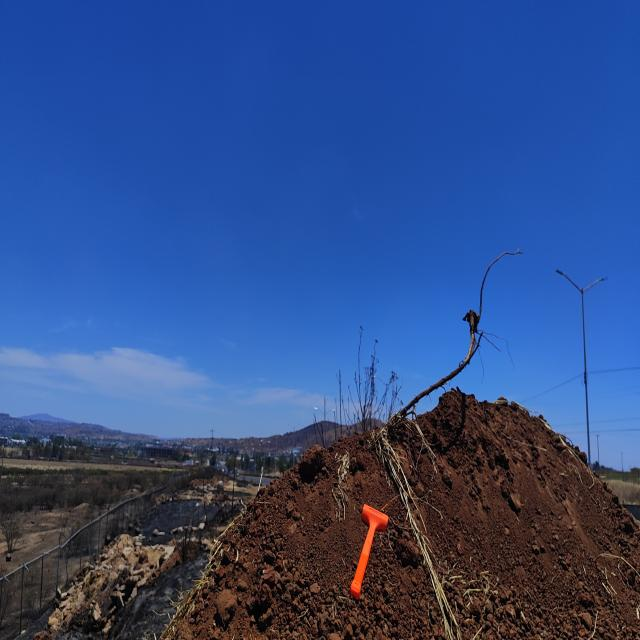Orange_hammer: (349, 502, 389, 600)
rock: (295, 444, 327, 491), (214, 582, 242, 624)
